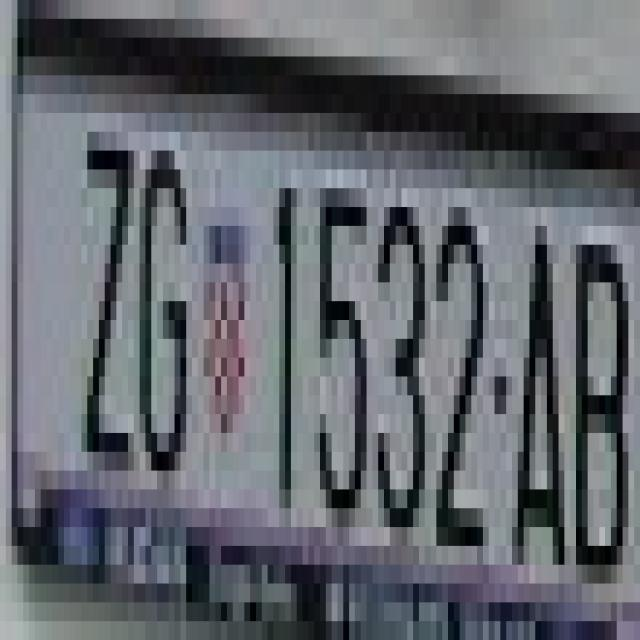1: (262, 151, 297, 527)
2: (431, 169, 488, 546)
3: (378, 169, 425, 527)
5: (303, 169, 367, 546)
A: (512, 207, 570, 565)
B: (576, 226, 634, 602)
G: (140, 132, 192, 489)
Z: (64, 94, 134, 471)
